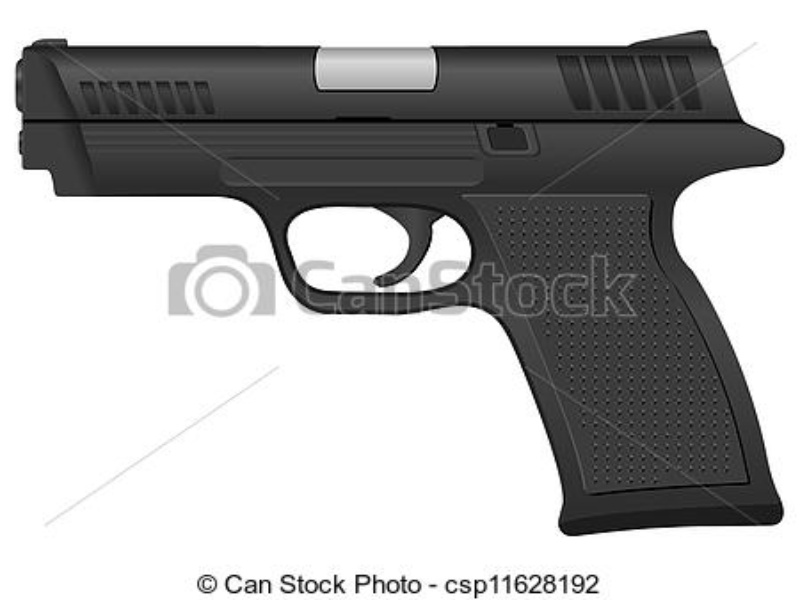gun: (4, 21, 787, 532)
